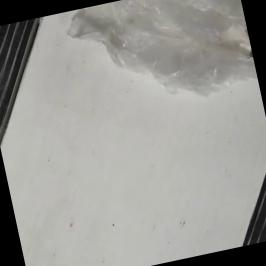Plastik: (61, 0, 259, 122)
